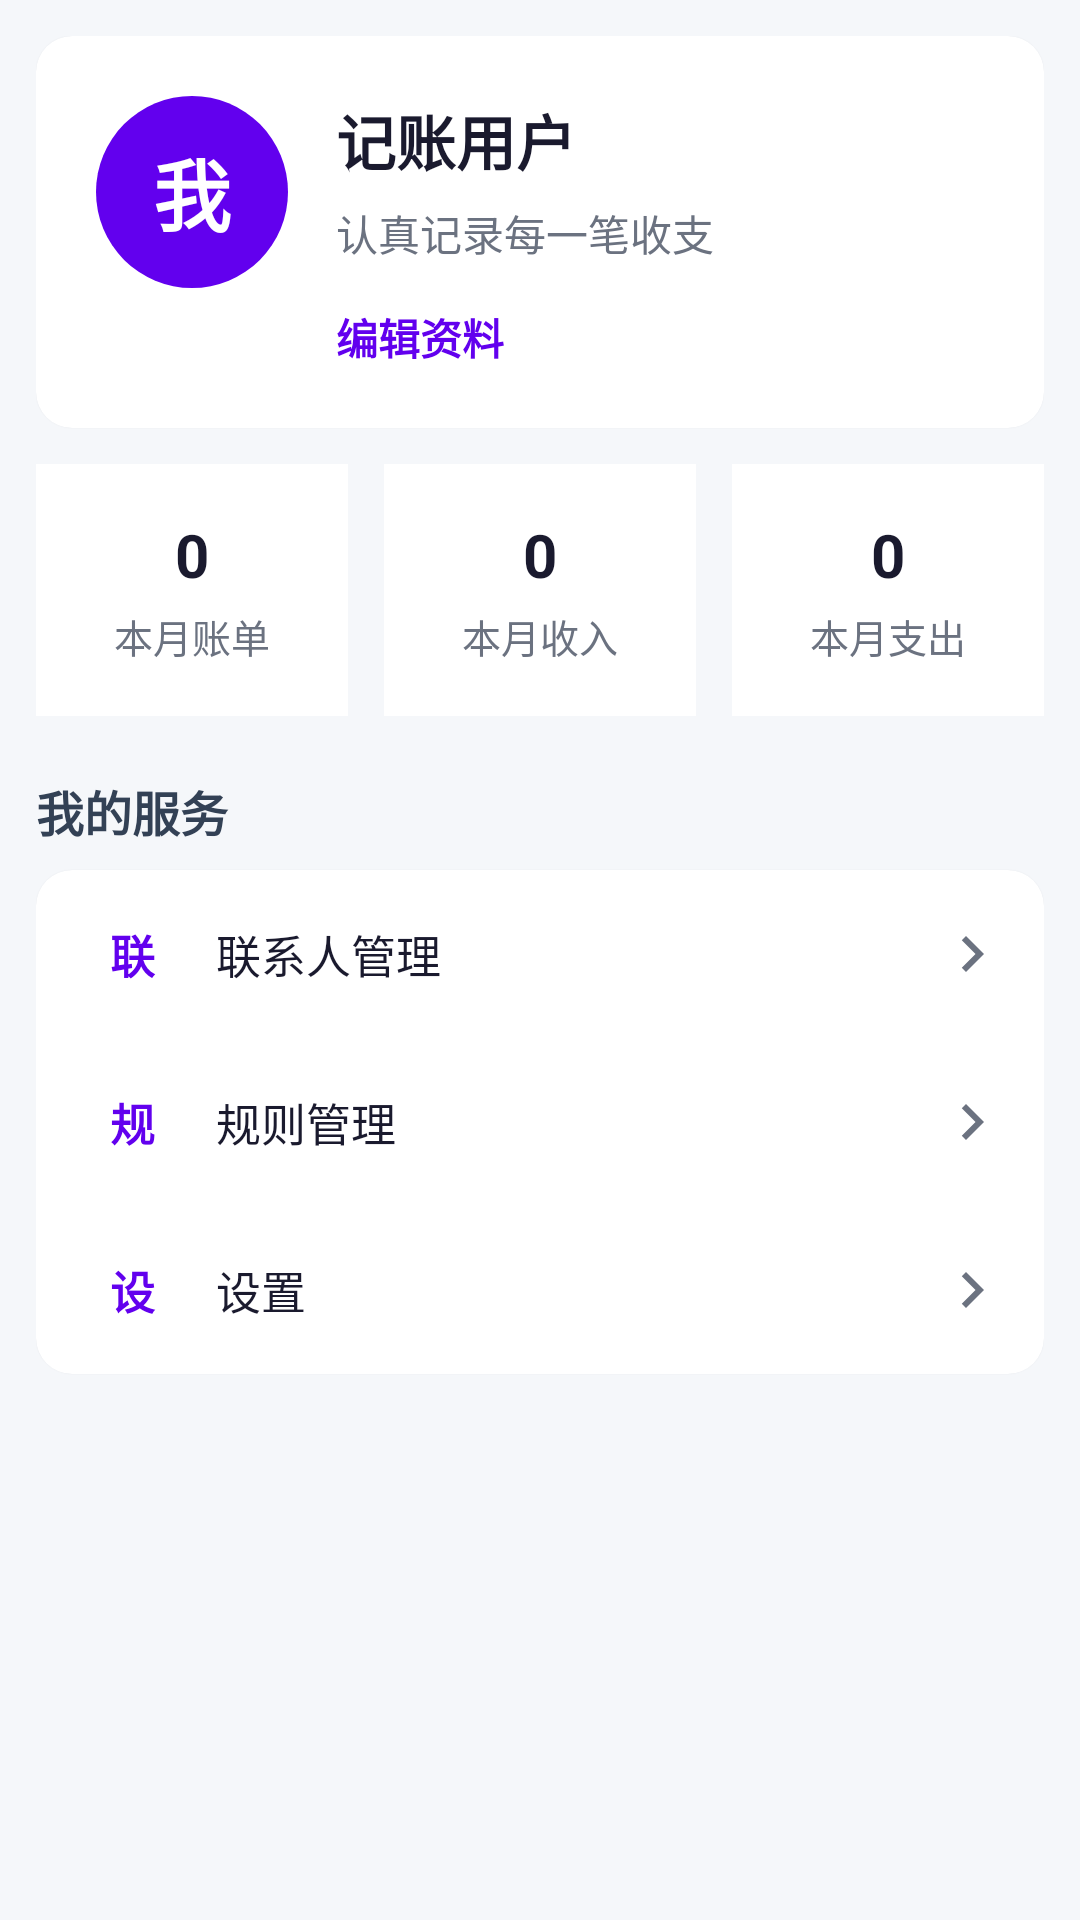

Where to tap for icons on this 1080 × 1920 app screen, as point (x, y):
chevron right: point (973, 954), point (973, 1122), point (973, 1290)
